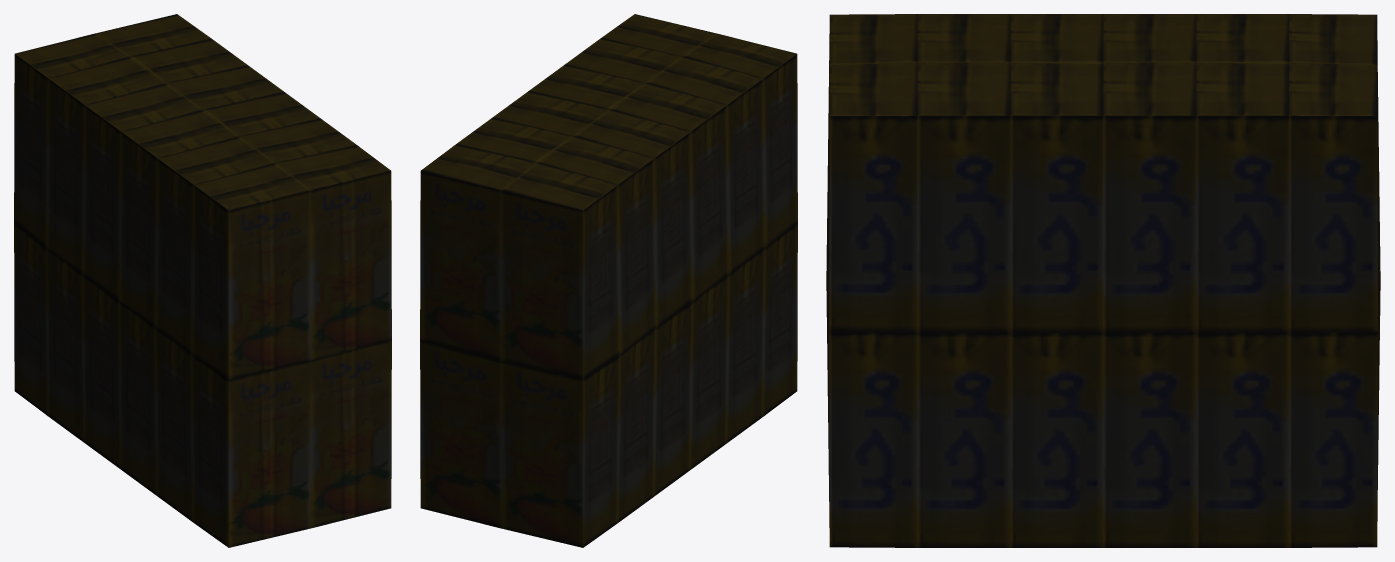
Rendered from p6_pak_food_juice_box_stacked_01_lod1.glb.
3 views of the same model, side by side, from view 1: azimuth 30°, elevation 25°; view 2: azimuth 150°, elevation 25°; view 3: azimuth 270°, elevation 25° (orthographic). The views are drawn at different scales.
Visible parts, largest first — view 1: surf0; view 2: surf0; view 3: surf0.
Boxes of the visible parts, x1,y1,x2,y2 form: surf0: (14, 14, 391, 547); surf0: (420, 14, 797, 547); surf0: (826, 14, 1380, 547).
Size of the model in its own units: 8.83 by 17.27 by 19.83.
